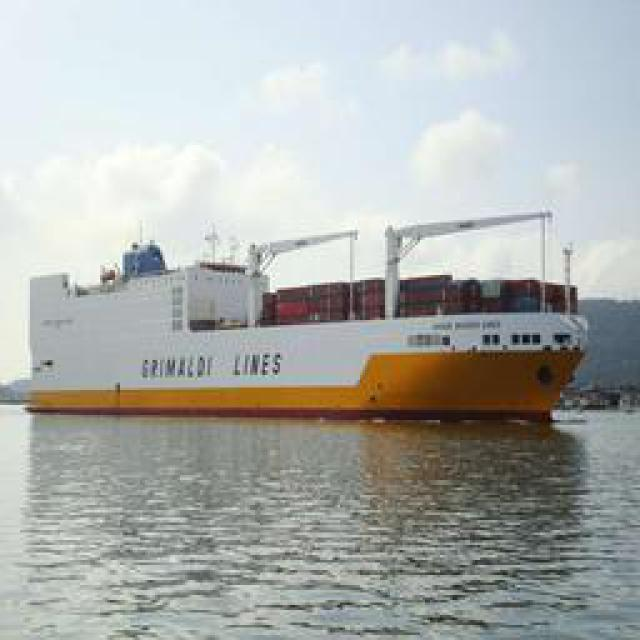Ship: (27, 204, 600, 424)
